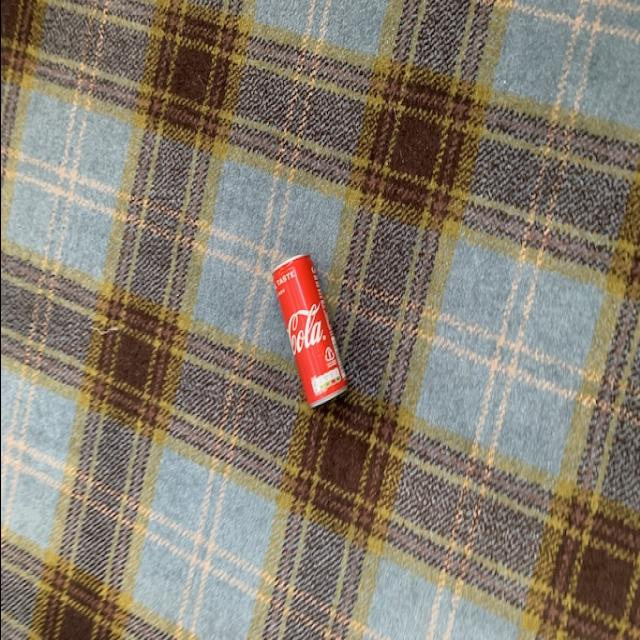Aluminum Can: (258, 255, 342, 409)
